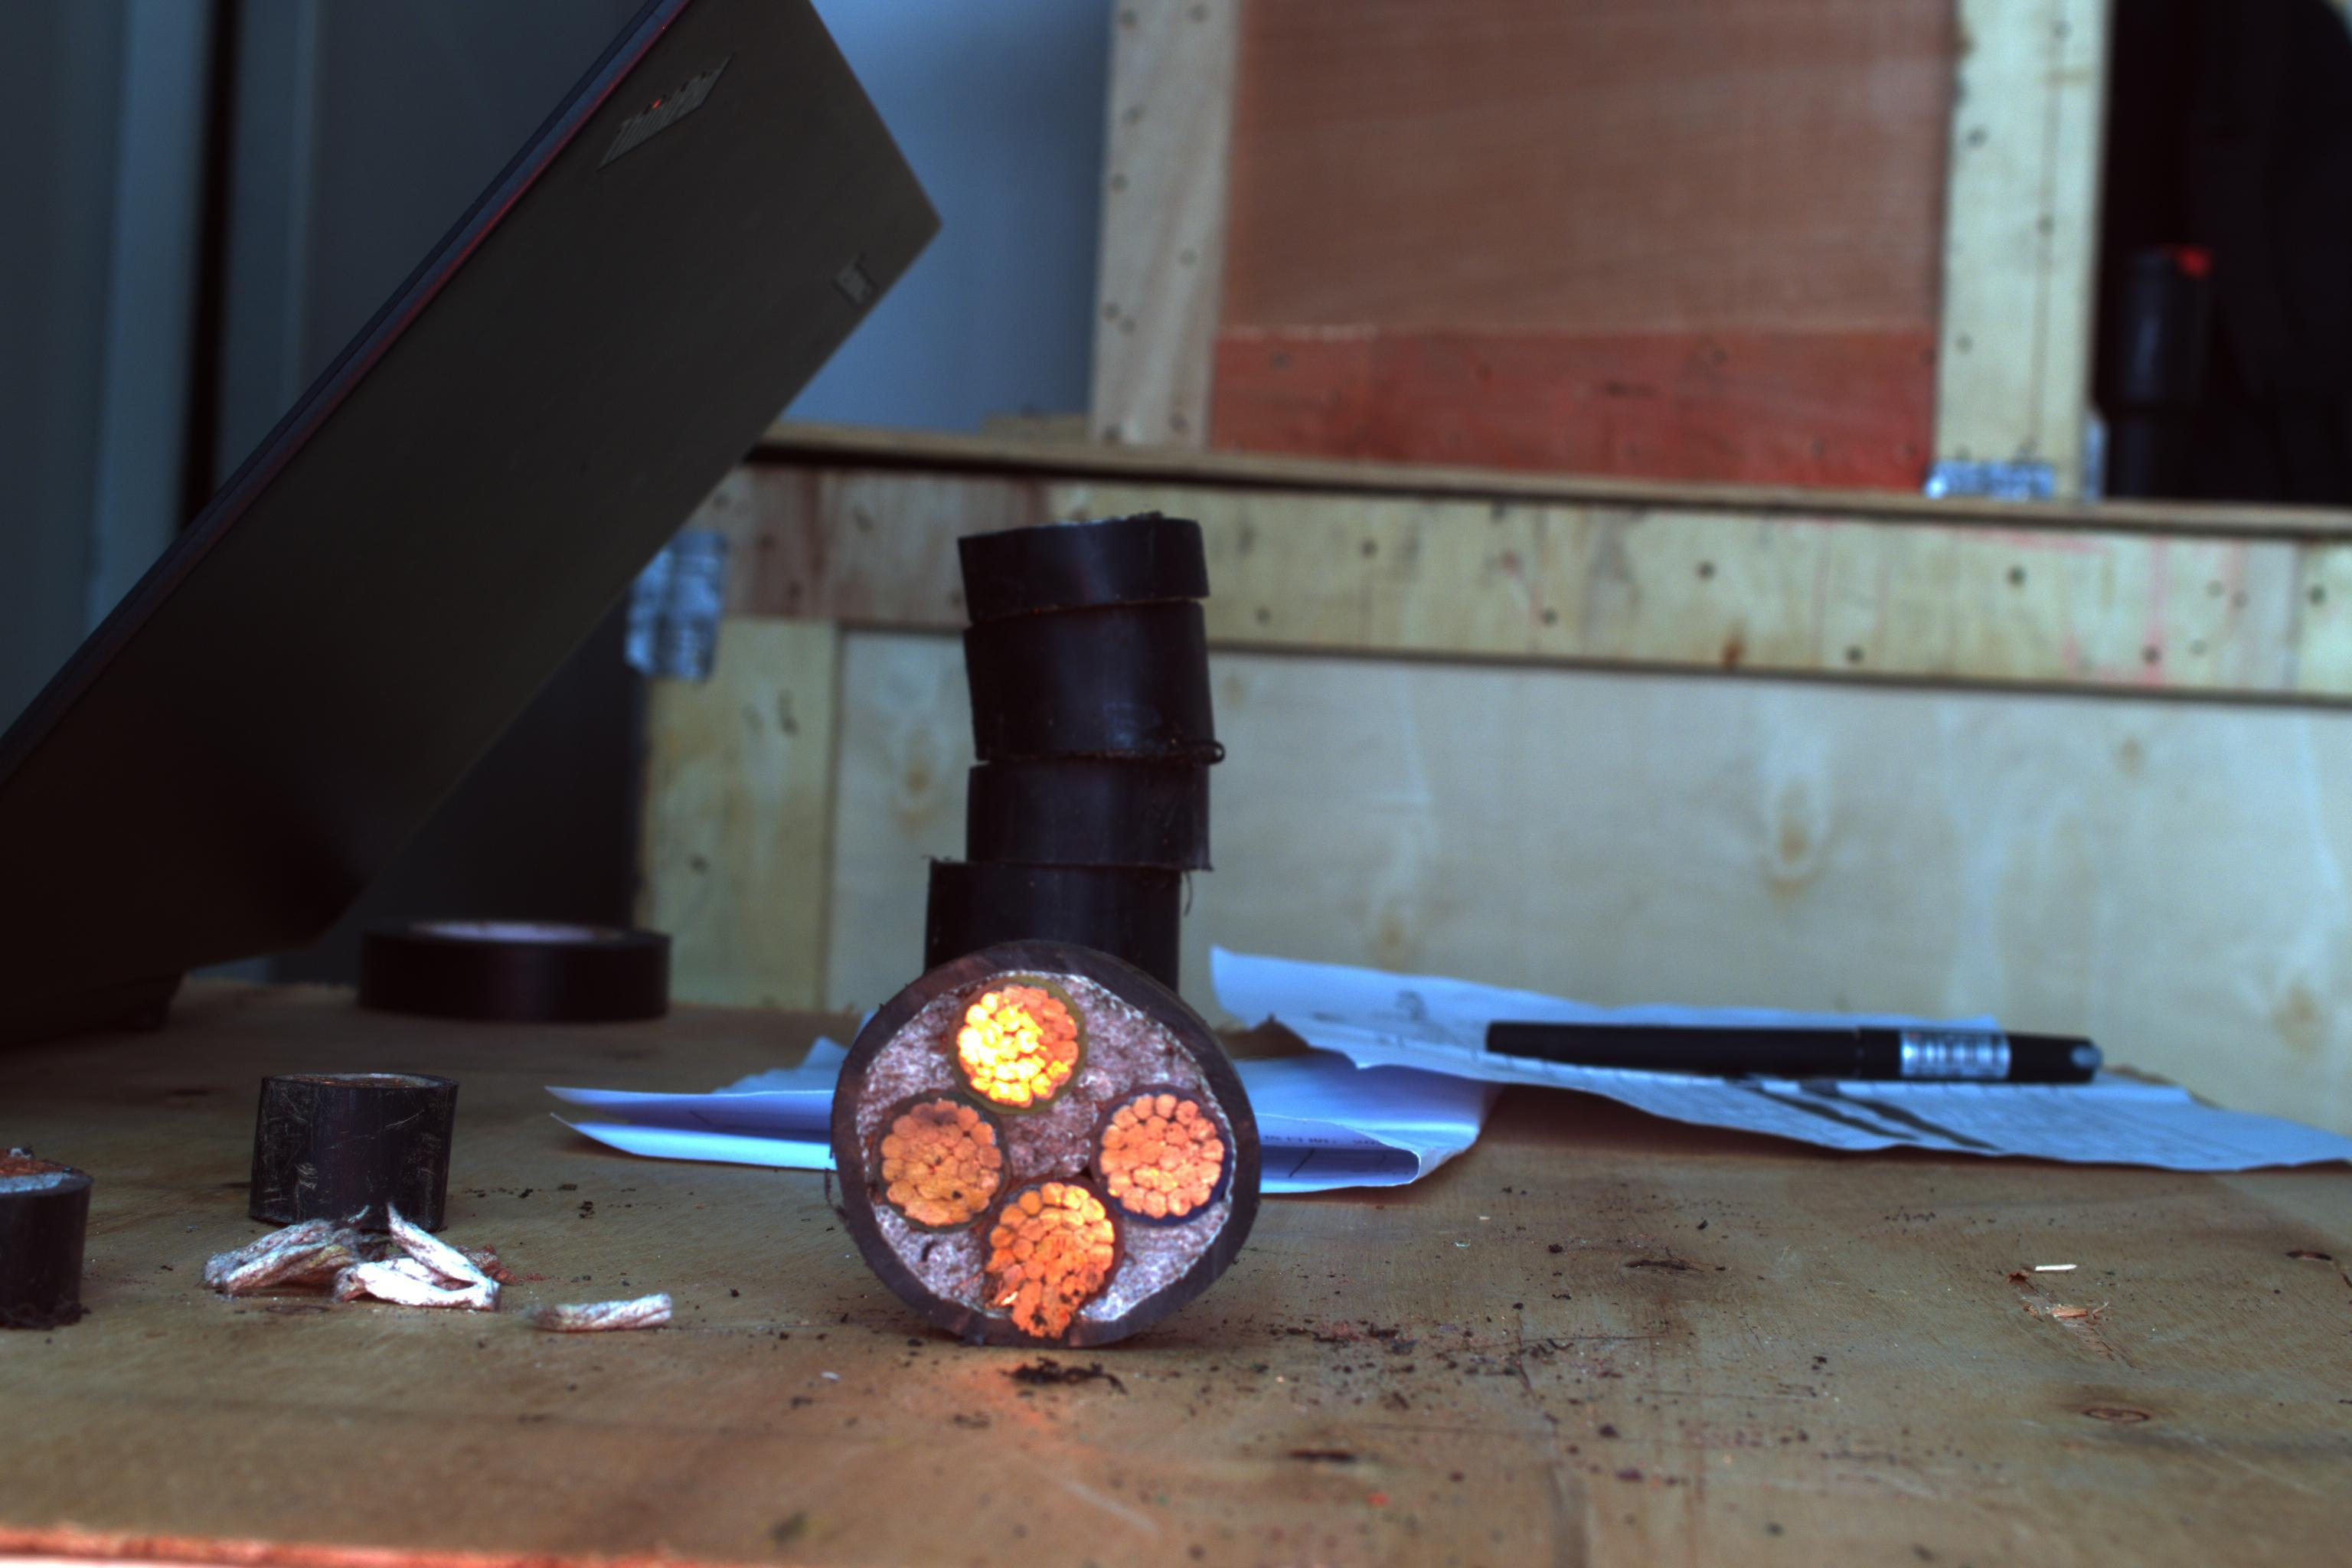YJV_0.6_1kV_4x120: (819, 955, 1260, 1354)
